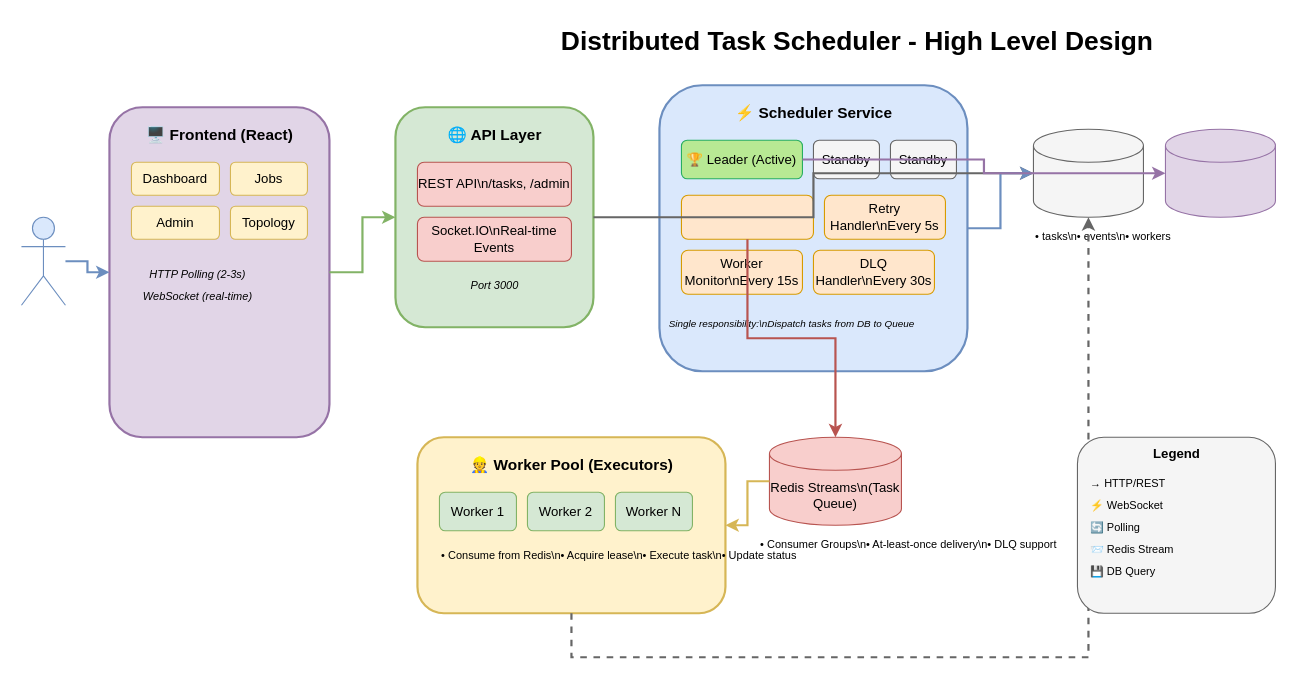
Some shapes in this 1295 by 685 pixel diagram are drawn without their labels. Each missing label, with the centre of its shape:
"Etcd\n(Leader Election)" goes at (x=1219, y=172).
"PostgreSQL\n(Source of Truth)" goes at (x=1087, y=172).
"Watcher\nPolls DB every 2s" goes at (x=746, y=216).
"👤 User" goes at (x=42, y=260).
